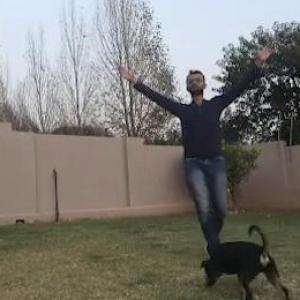takeoff: (113, 24, 299, 264)
